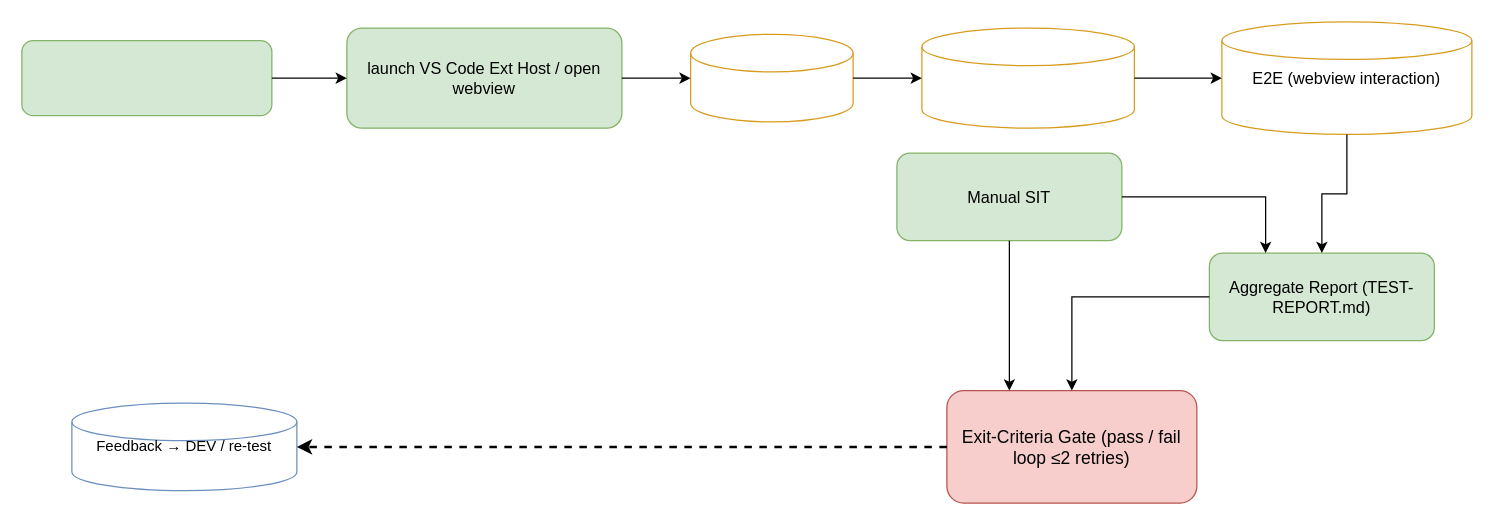
This 1494x525 diagram has some shape labels left out. The shapes that lost their labels are listed below. From the top down, each one's centre as x and y in pixels, then its label:
At point (146, 77): "npm build / TSC compile".
At point (771, 77): "Unit tests".
At point (1027, 77): "Integration (mock services)".
